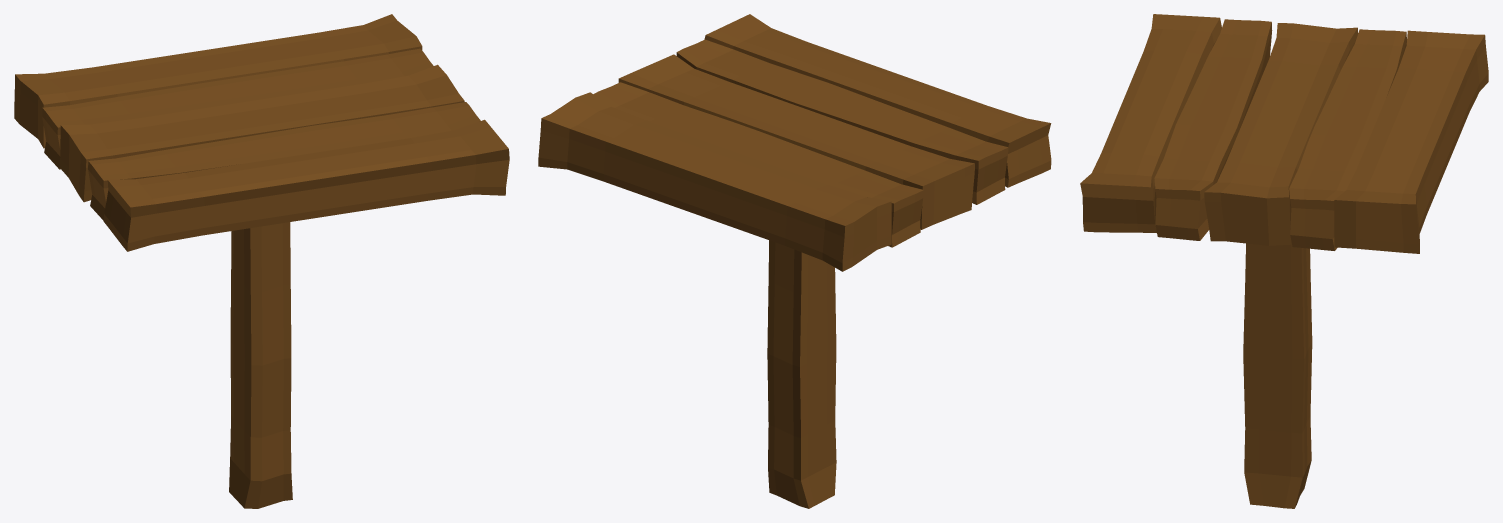
Rendered from table.fbx.
The picture shows the model from 3 angles, left to right: view 1: azimuth 30°, elevation 25°; view 2: azimuth 150°, elevation 25°; view 3: azimuth 270°, elevation 25°; orthographic projection. The views are drawn at different scales.
Visible parts, largest first — view 1: table; view 2: table; view 3: table.
Part boxes in pixels (box(x1,y1,x2,y2)): table: box(14, 14, 509, 508); table: box(538, 14, 1051, 508); table: box(1080, 14, 1488, 508).
Bounding box in the file's own units: 310 × 292 × 273.
